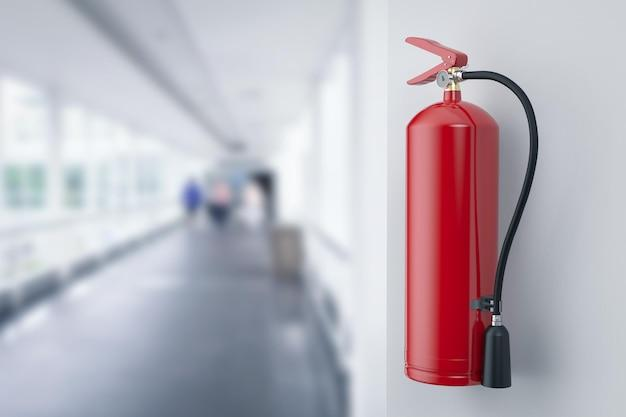wall-mounted: (392, 20, 546, 401)
